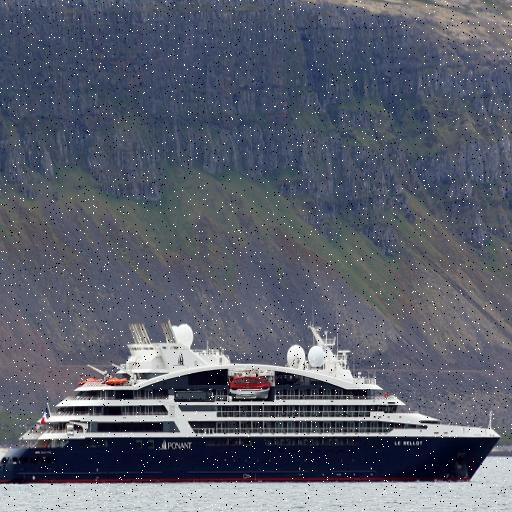cruises: (1, 316, 507, 488)
